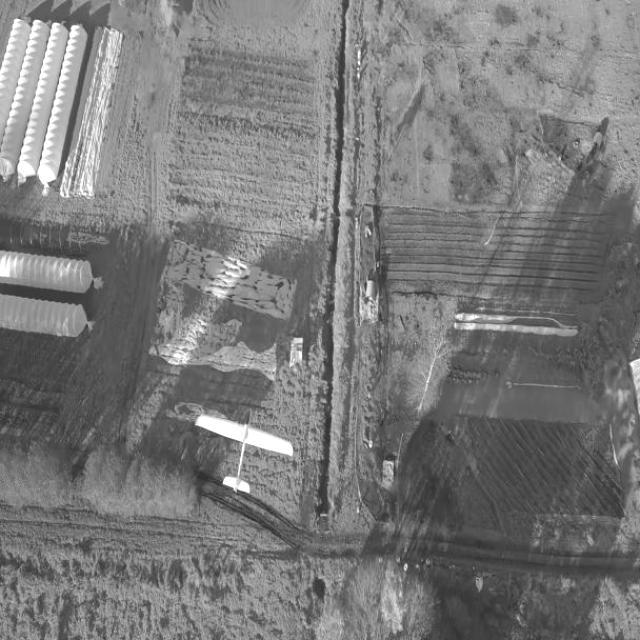iha: (222, 432, 266, 464)
